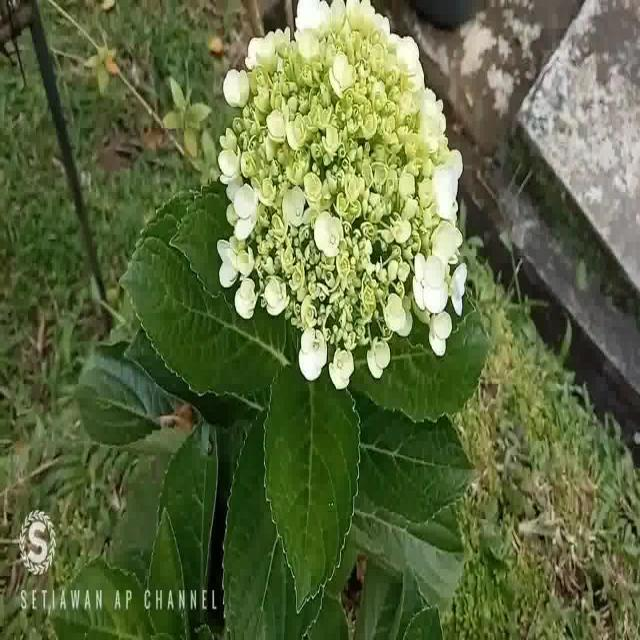Flower: (223, 1, 467, 380)
